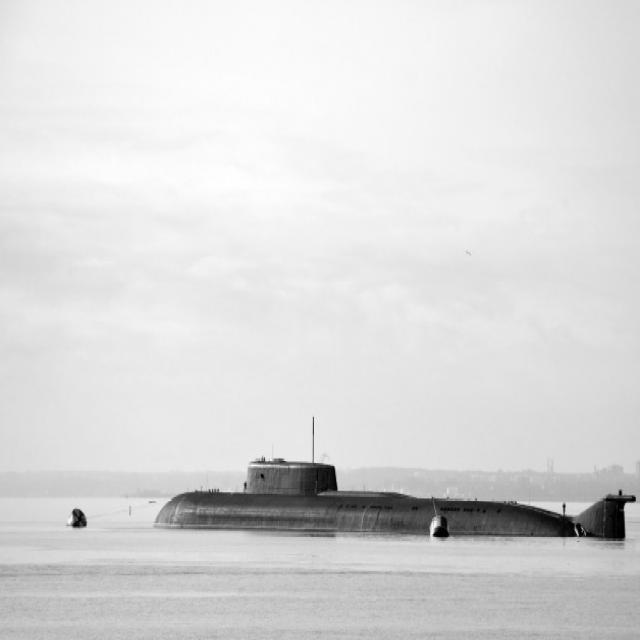submarine: (151, 460, 640, 540)
